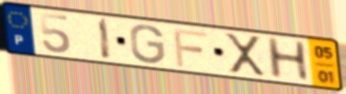5: (38, 12, 73, 55)
F: (171, 27, 210, 69)
G: (128, 23, 167, 66)
H: (263, 36, 312, 82)
I: (97, 16, 114, 63)
X: (222, 31, 268, 78)
